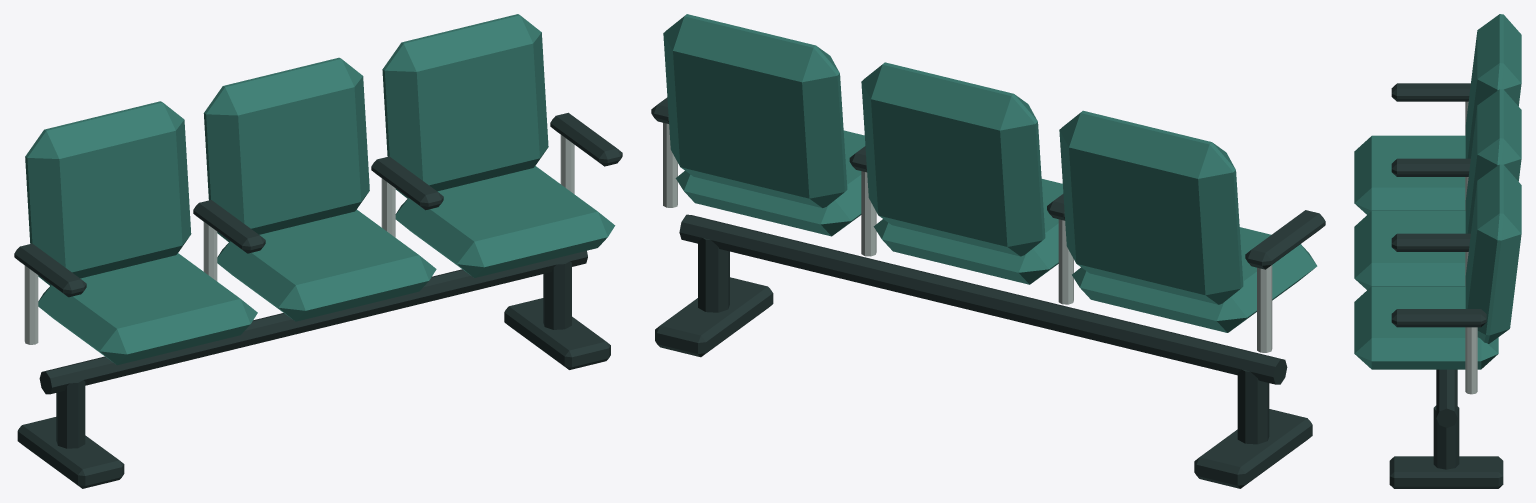
File: auditorium_seats.glb
The picture shows the model from 3 angles, left to right: view 1: azimuth 30°, elevation 25°; view 2: azimuth 150°, elevation 25°; view 3: azimuth 270°, elevation 25°; orthographic projection. The views are drawn at different scales.
Visible parts, largest first — view 1: Assento.002, Base, Suporte do braço; view 2: Assento.002, Base, Suporte do braço; view 3: Assento.002, Base, Suporte do braço.
Boxes of the visible parts, x1,y1,x2,y2 form: Assento.002: [25, 14, 615, 365]; Base: [14, 112, 622, 488]; Suporte do braço: [24, 135, 574, 344]; Assento.002: [663, 14, 1317, 332]; Base: [651, 97, 1325, 488]; Suporte do braço: [663, 123, 1272, 352]; Assento.002: [1354, 14, 1521, 369]; Base: [1389, 83, 1503, 488]; Suporte do braço: [1465, 101, 1477, 394].
Size of the model in its own units: 1.82 by 0.9533 by 0.5449.
